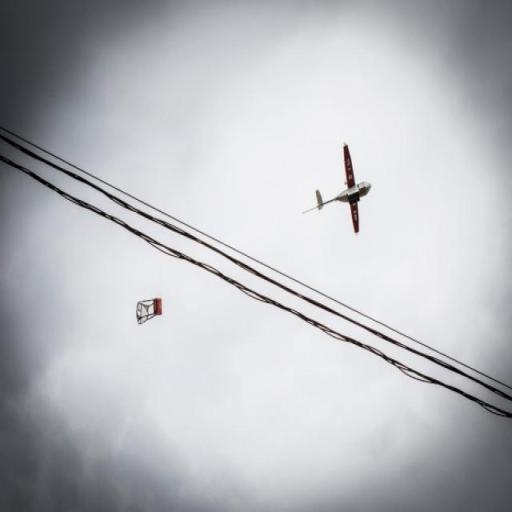uav: (313, 142, 374, 238)
